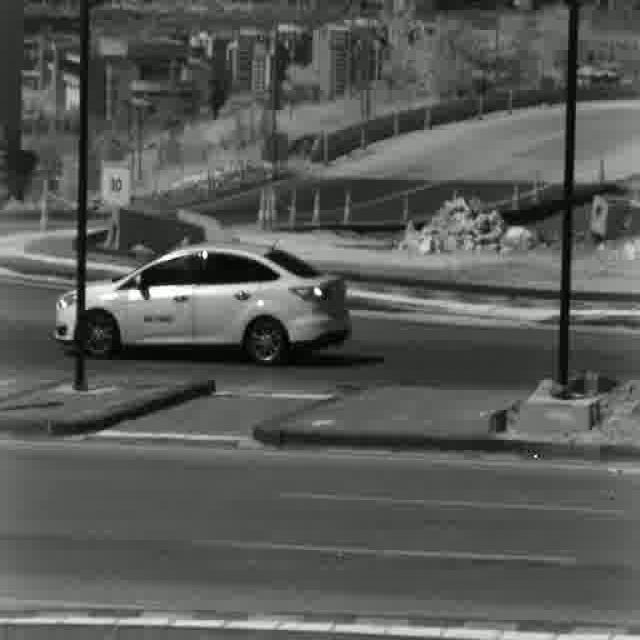Car: (53, 242, 350, 366)
